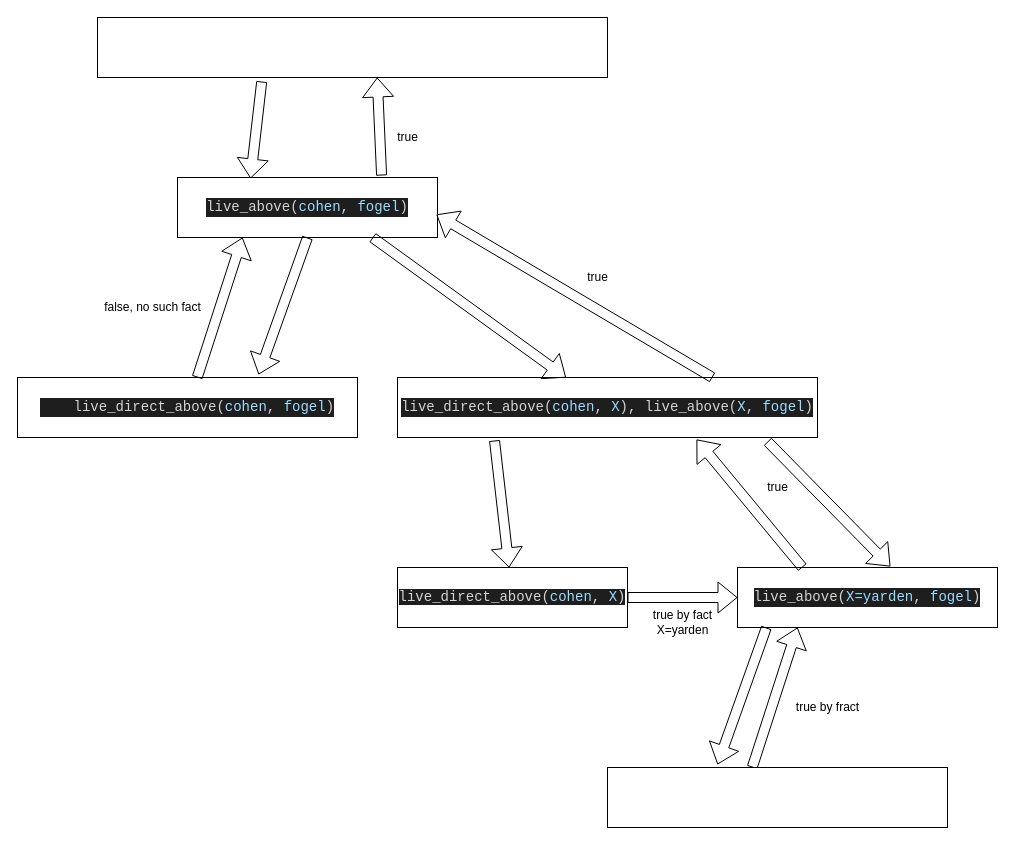
Image size: 1015x845. Some labels were removed from this diagram. The shapes that lost their labels are listed below. From the top down, each one's centre as x and y in pixels, then its label:
(352,47): live_below(fogel, cohen).
(777,797): live_direct_above( yarden , fogel)
